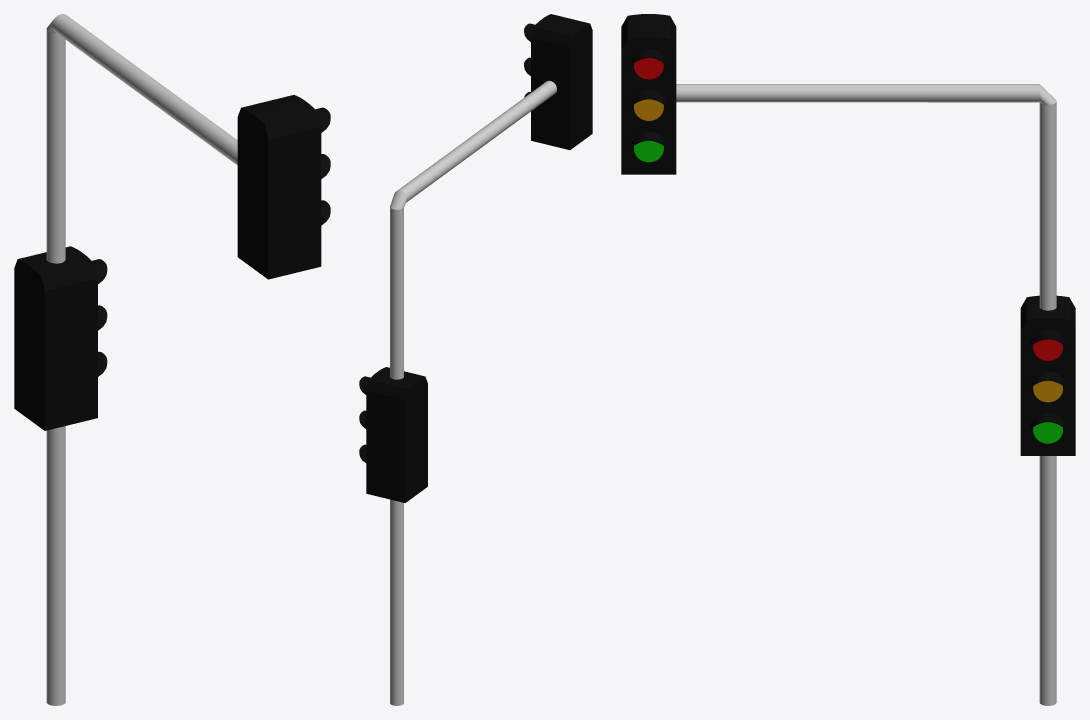
The model's file is ampel_mit_mast_oben.obj.
The picture shows the model from 3 angles, left to right: view 1: azimuth 30°, elevation 25°; view 2: azimuth 150°, elevation 25°; view 3: azimuth 270°, elevation 25°; orthographic projection. The views are drawn at different scales.
Visible parts, largest first — view 1: Cylinder.006, Cube.001_Cube.002, Cube_Cube.001; view 2: Cylinder.006, Cube_Cube.001, Cube.001_Cube.002; view 3: Cylinder.006, Cube.001_Cube.002, Cube_Cube.001.
Part boxes in pixels (left/top/right/bottom): Cylinder.006: left=46, top=14, right=237, bottom=705; Cube.001_Cube.002: left=237, top=95, right=321, bottom=279; Cube_Cube.001: left=14, top=246, right=97, bottom=430; Cylinder.006: left=390, top=80, right=556, bottom=705; Cube_Cube.001: left=366, top=367, right=427, bottom=502; Cube.001_Cube.002: left=531, top=14, right=592, bottom=149; Cylinder.006: left=676, top=84, right=1056, bottom=705; Cube.001_Cube.002: left=621, top=14, right=676, bottom=174; Cube_Cube.001: left=1020, top=295, right=1075, bottom=455.
Size of the model in its own units: 1.66 by 16.36 by 9.95.
